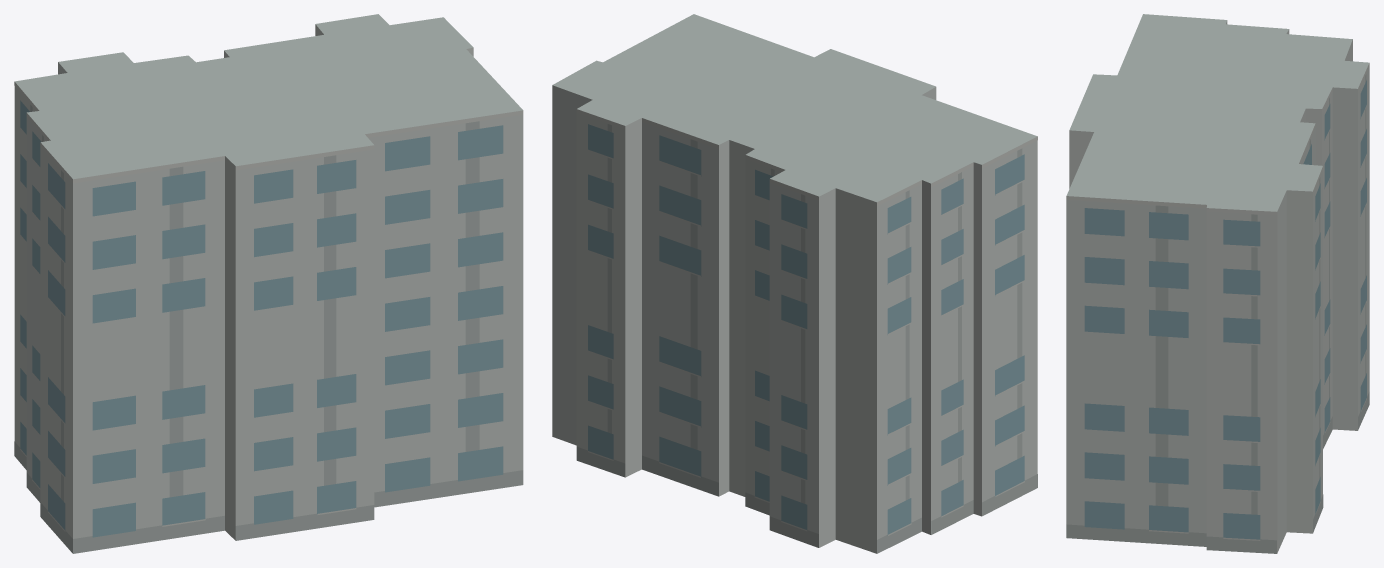
Rendered from survey-upis-32674698.glb.
3 views of the same model, side by side, from view 1: azimuth 30°, elevation 25°; view 2: azimuth 150°, elevation 25°; view 3: azimuth 270°, elevation 25° (orthographic). The views are drawn at different scales.
Visible parts, largest first — view 1: survey-upis-32674698.tmp; view 2: survey-upis-32674698.tmp; view 3: survey-upis-32674698.tmp.
Boxes of the visible parts, box(x1,y1,x2,y2) form: survey-upis-32674698.tmp: box(14, 14, 523, 553); survey-upis-32674698.tmp: box(552, 14, 1037, 553); survey-upis-32674698.tmp: box(1066, 14, 1369, 553).
Size of the model in its own units: 26.55 by 21.4 by 17.2.
